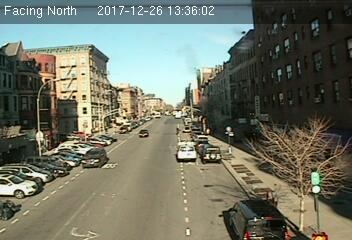car: (81, 148, 107, 168), (202, 145, 220, 161), (138, 129, 149, 138)
truck: (227, 200, 292, 238), (176, 144, 196, 160)
